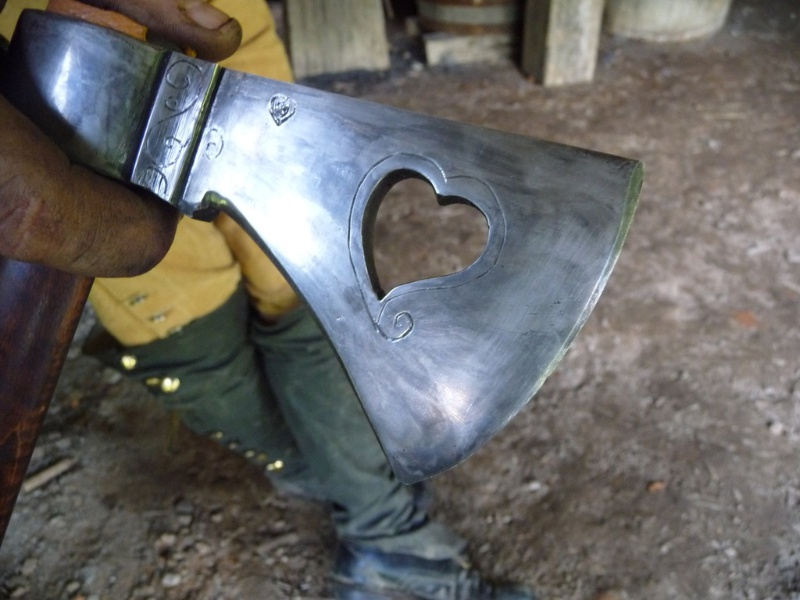axe: (1, 3, 646, 492)
